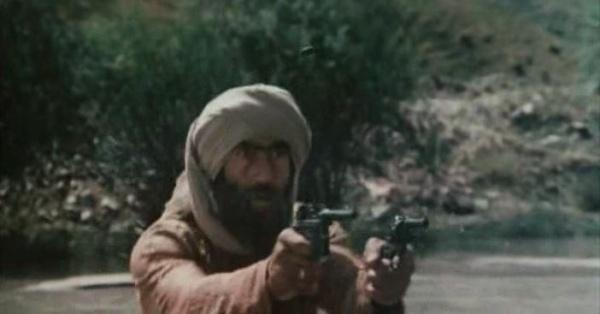Gun: (293, 205, 359, 253), (381, 216, 429, 259)
